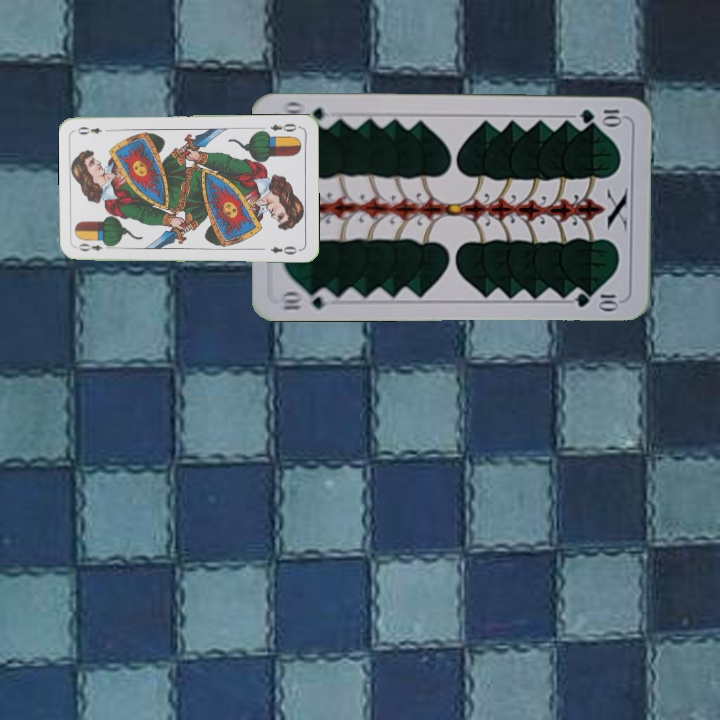EO: (74, 239, 114, 253), (266, 119, 302, 134)
G10: (278, 286, 336, 313), (575, 105, 625, 126)
